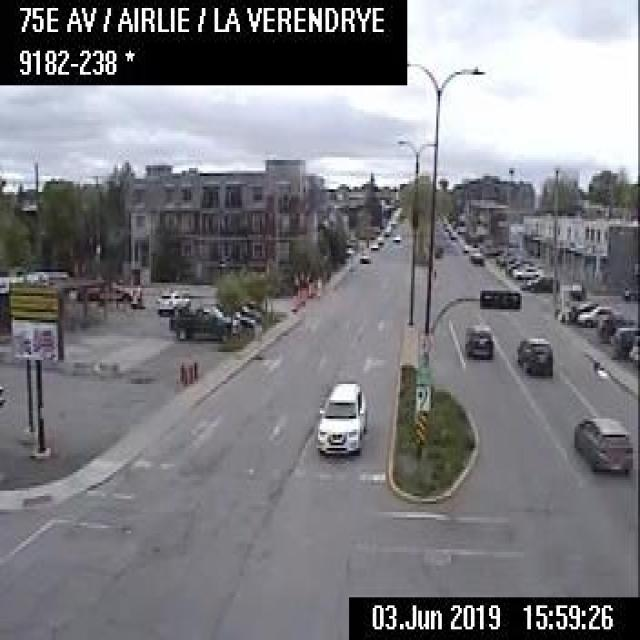construction: (177, 359, 184, 384), (187, 362, 193, 384), (183, 358, 188, 384)
vehicle: (314, 379, 366, 453), (571, 408, 633, 467), (167, 303, 238, 341), (516, 333, 554, 376), (463, 325, 492, 360), (597, 312, 636, 338), (155, 288, 189, 315), (578, 302, 616, 324), (523, 272, 558, 292), (509, 261, 542, 275), (467, 248, 482, 264), (356, 251, 369, 264), (392, 231, 402, 242), (461, 240, 471, 250), (369, 240, 378, 248)
